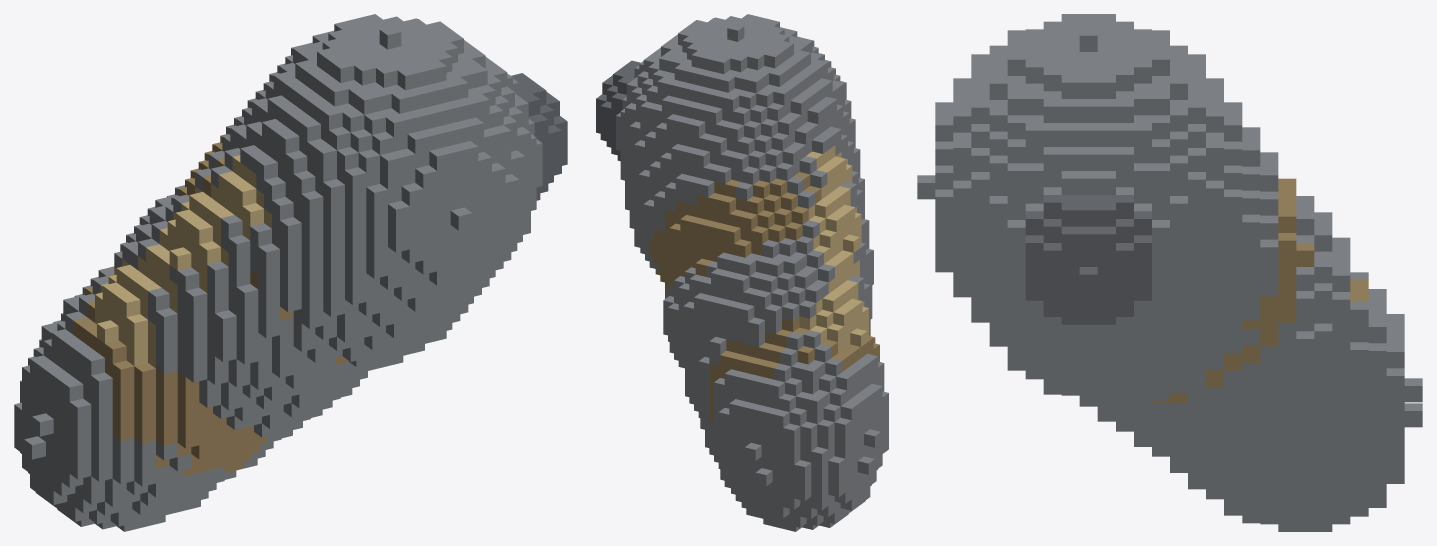
Rendered from lb_thigh.glb.
3 renders of one model, left to right at view 1: azimuth 30°, elevation 25°; view 2: azimuth 150°, elevation 25°; view 3: azimuth 270°, elevation 25°, orthographic. The views are drawn at different scales.
Size of the model in its own units: 32 by 36 by 28.
